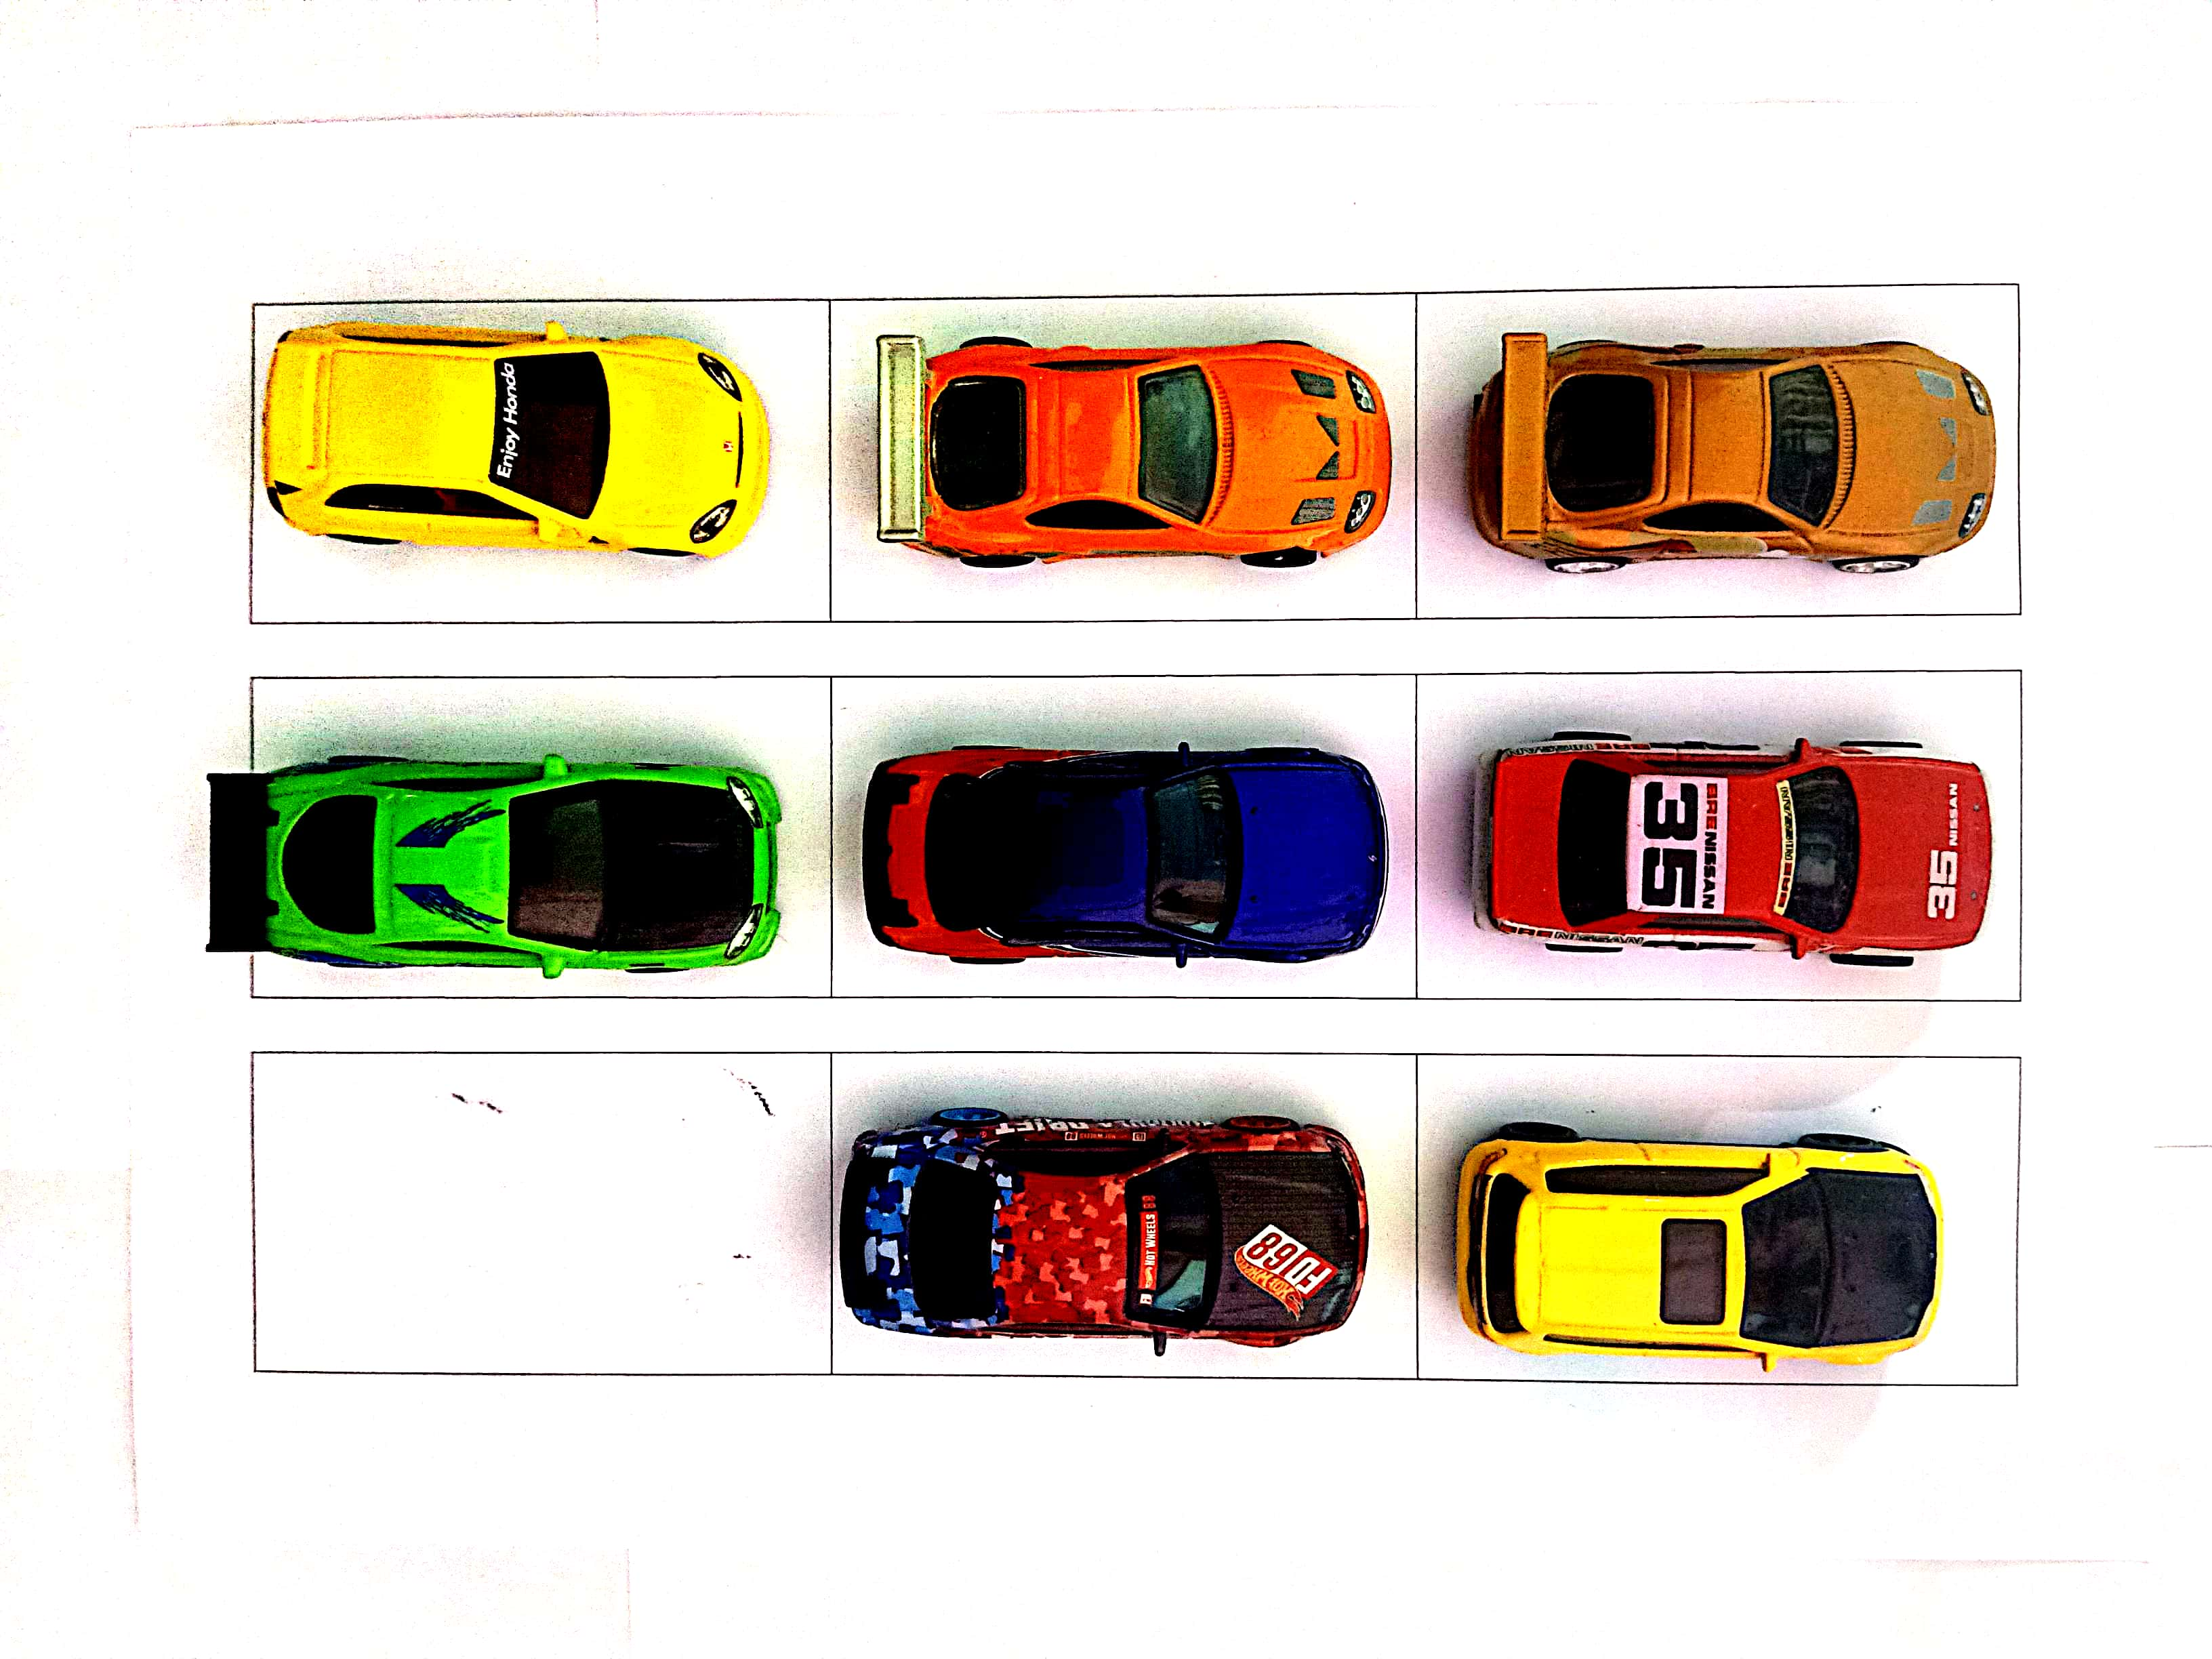Busy: (1418, 1056, 2020, 1391), (1414, 281, 2020, 610), (1420, 673, 2015, 995), (827, 673, 1418, 995), (827, 300, 1414, 622), (251, 676, 827, 1004), (247, 305, 827, 627), (831, 1056, 1414, 1375)
Free: (251, 1058, 834, 1373)
